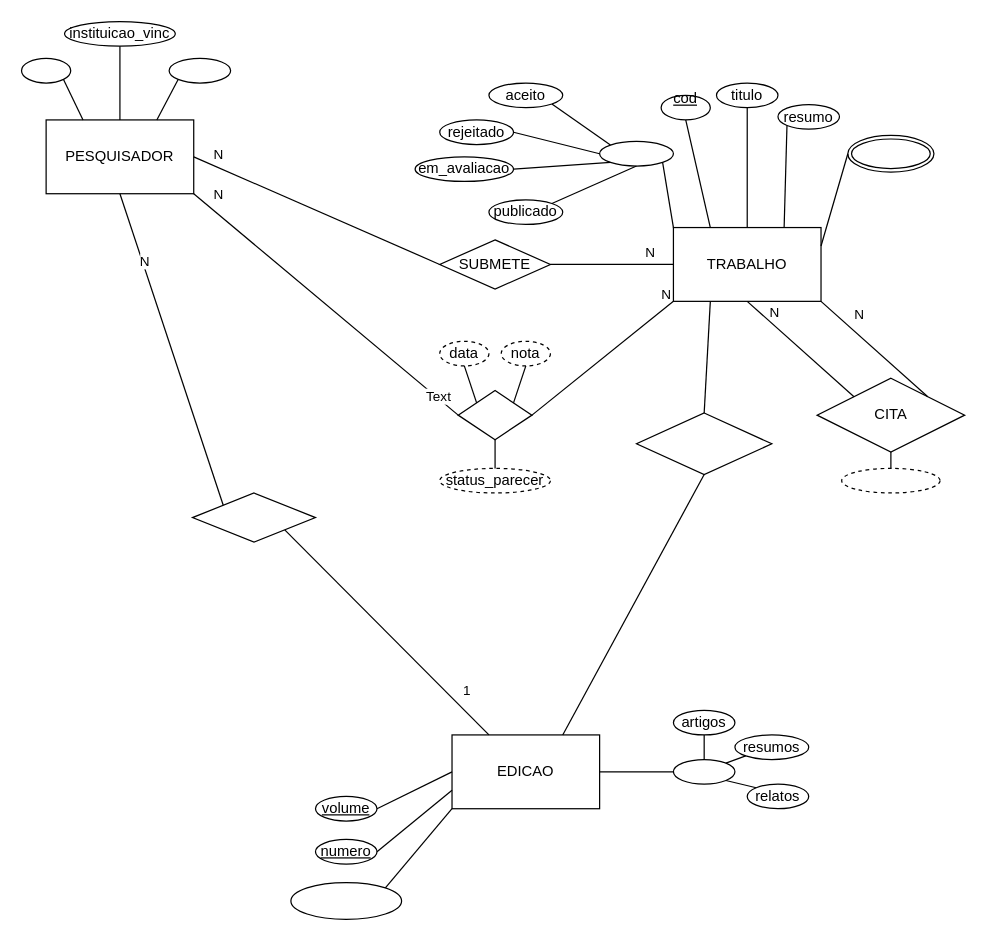
Image size: 986x941. Some labels were removed from this diagram. Here are the shapes that lost their labels. From the top down, the box of each, then its label:
(20, 57, 71, 83): orcid
(168, 57, 231, 83): nome
(598, 140, 673, 166): situacao
(847, 134, 934, 172): key_words
(457, 389, 532, 440): AVALIA
(635, 412, 772, 475): E_PUBLICADO
(840, 467, 940, 493): qtd_citacoes
(191, 492, 315, 542): E_CONVIDADO
(672, 758, 735, 784): sumario
(290, 881, 402, 919): data_publicacao
